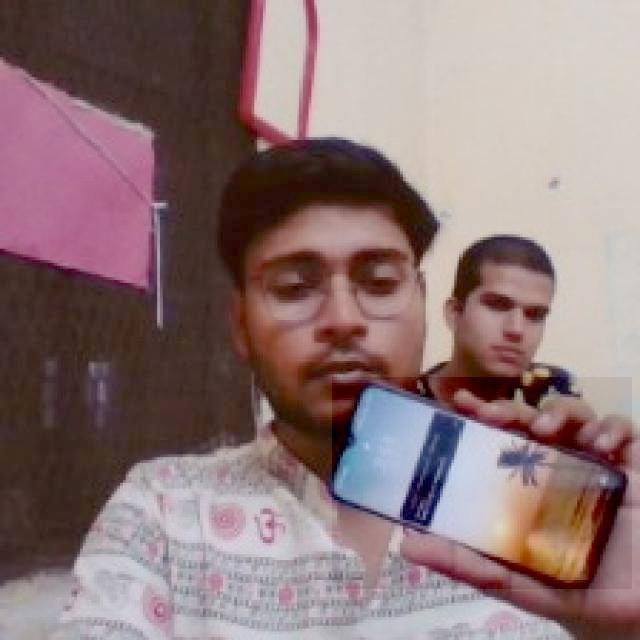mobile: (331, 377, 631, 589)
